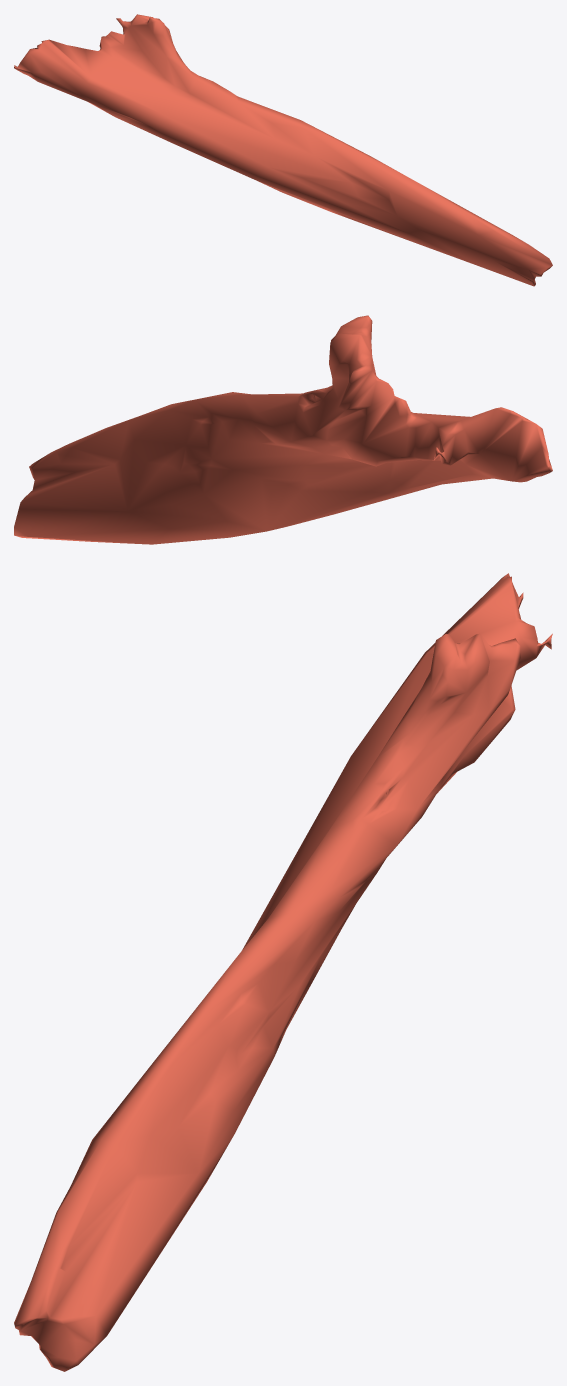
Rendered from opponens-pollicis.glb.
3 renders of one model, top to bottom at view 1: azimuth 30°, elevation 25°; view 2: azimuth 150°, elevation 25°; view 3: azimuth 270°, elevation 25°, orthographic. The views are drawn at different scales.
Parts seen in each view (by area): view 1: Opponens pollicis muscle.l; view 2: Opponens pollicis muscle.l; view 3: Opponens pollicis muscle.l.
Boxes of the visible parts, x1,y1,x2,y2 form: Opponens pollicis muscle.l: [14, 14, 552, 286]; Opponens pollicis muscle.l: [14, 315, 552, 544]; Opponens pollicis muscle.l: [14, 573, 552, 1371].
Size of the model in its own units: 0.0463 by 0.0284 by 0.0288.
